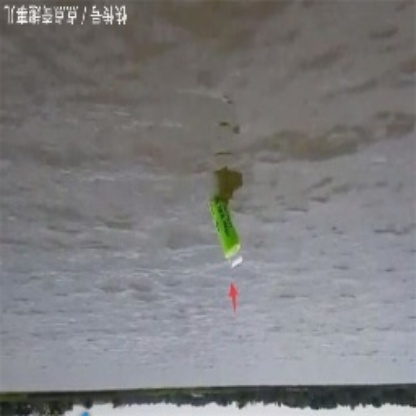bottle: (205, 190, 257, 271)
